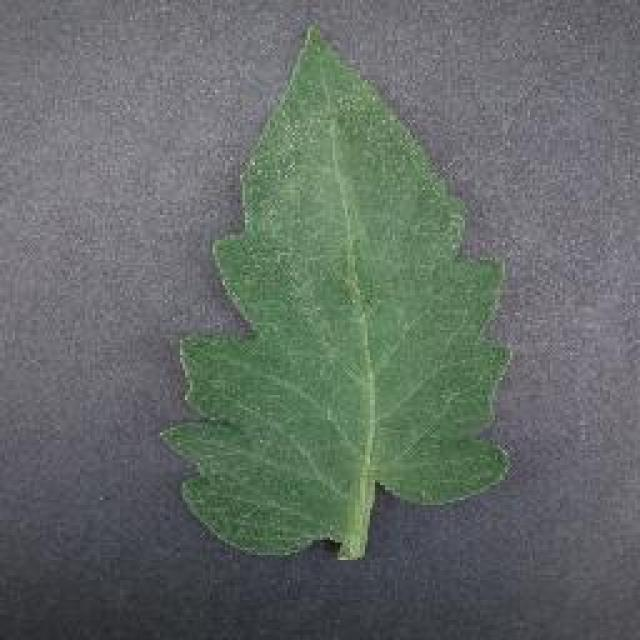Healthy: (150, 22, 518, 568)
